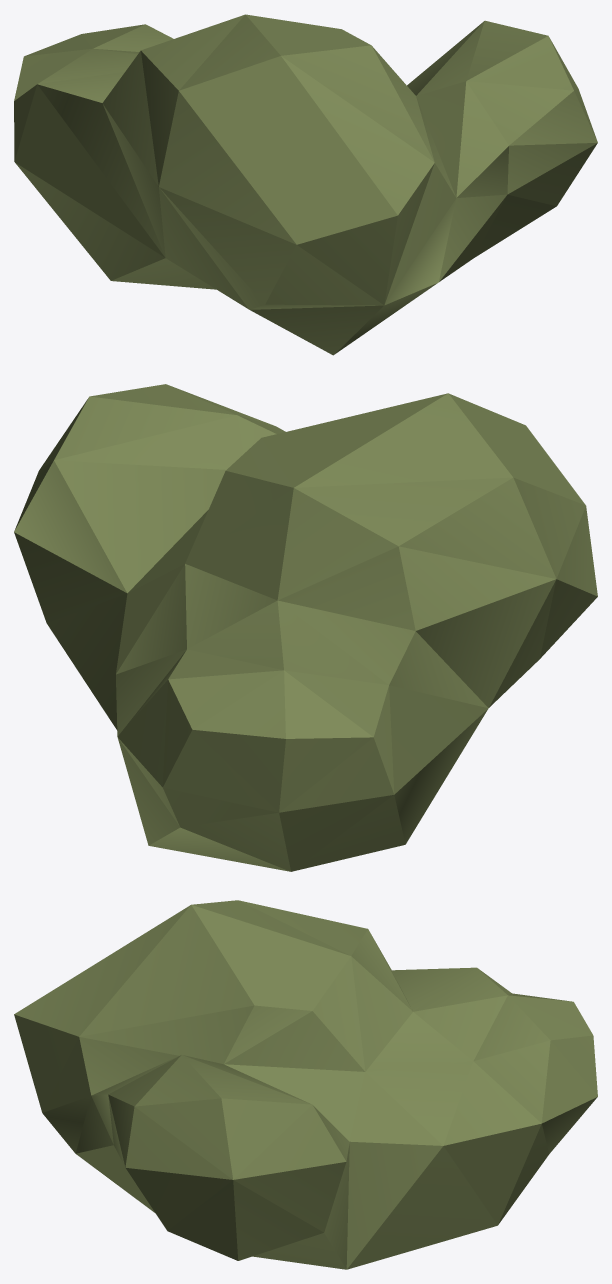
File: Bush.fbx
The picture shows the model from 3 angles, top to bottom: view 1: azimuth 30°, elevation 25°; view 2: azimuth 150°, elevation 25°; view 3: azimuth 270°, elevation 25°; orthographic projection. The views are drawn at different scales.
Parts seen in each view (by area): view 1: Bush; view 2: Bush; view 3: Bush.
Part boxes in pixels (x1=…): Bush: x1=14, y1=14, x2=597, y2=355; Bush: x1=14, y1=384, x2=597, y2=871; Bush: x1=14, y1=900, x2=597, y2=1269.
Size of the model in its own units: 285 by 180 by 344.
